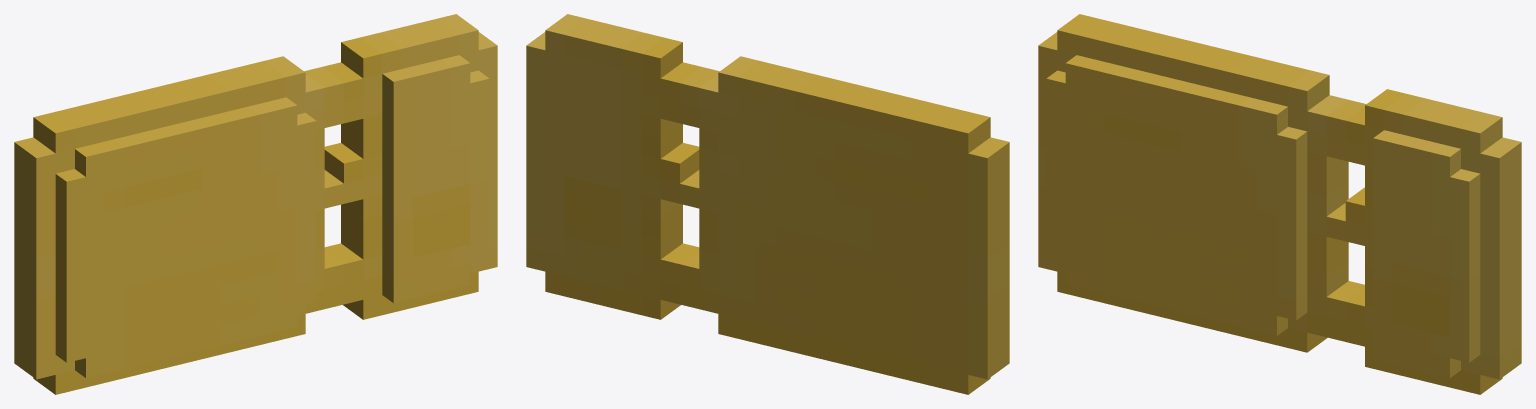
File: ticket-yellow.glb
The picture shows the model from 3 angles, left to right: view 1: azimuth 30°, elevation 25°; view 2: azimuth 150°, elevation 25°; view 3: azimuth 330°, elevation 25°; orthographic projection.
Visible parts, largest first — view 1: prop; view 2: prop; view 3: prop.
Part boxes in pixels (x1,y1,x2,y2): prop: (14,14,497,394); prop: (526,14,1009,394); prop: (1038,14,1521,394).
Size of the model in its own units: 16.62 by 9 by 2.08.
